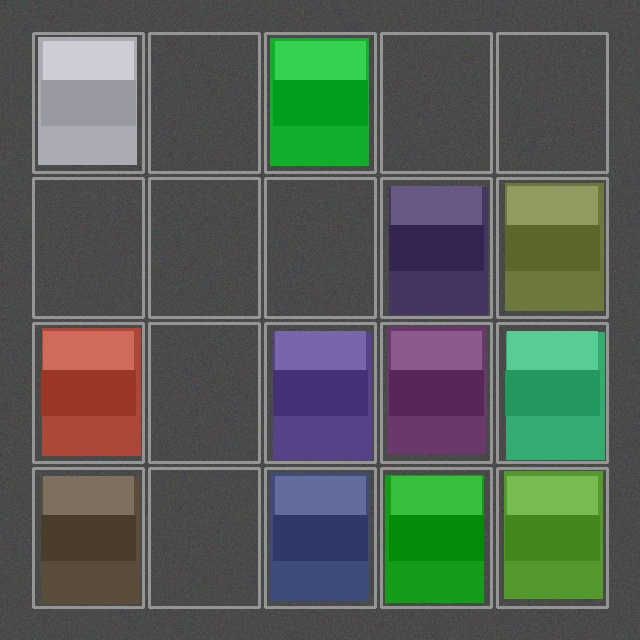space-empty: (151, 35, 257, 170), (383, 35, 489, 170), (499, 35, 605, 170), (35, 180, 141, 315), (151, 180, 257, 315), (267, 180, 373, 315), (151, 325, 257, 460), (151, 470, 257, 605)
space-occupied: (35, 35, 141, 170), (267, 35, 373, 170), (383, 180, 489, 315), (499, 180, 605, 315), (35, 325, 141, 460), (267, 325, 373, 460), (383, 325, 489, 460), (499, 325, 605, 460), (35, 470, 141, 605), (267, 470, 373, 605), (383, 470, 489, 605), (499, 470, 605, 605)
